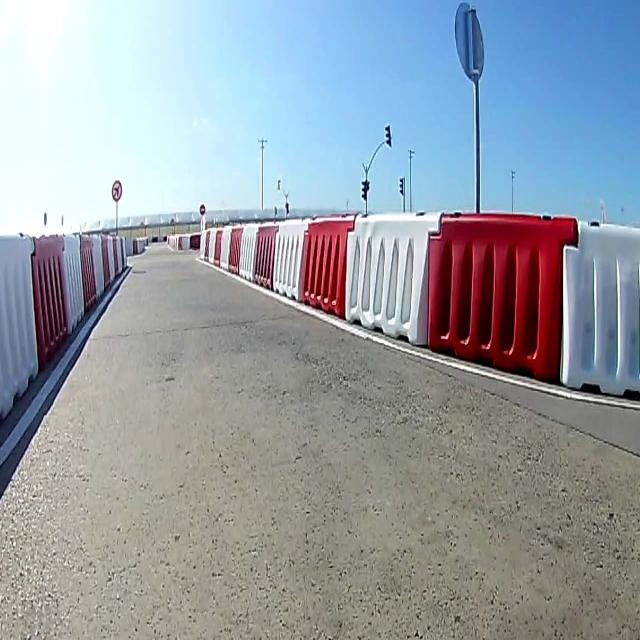soladonulmez: (112, 178, 122, 202)
